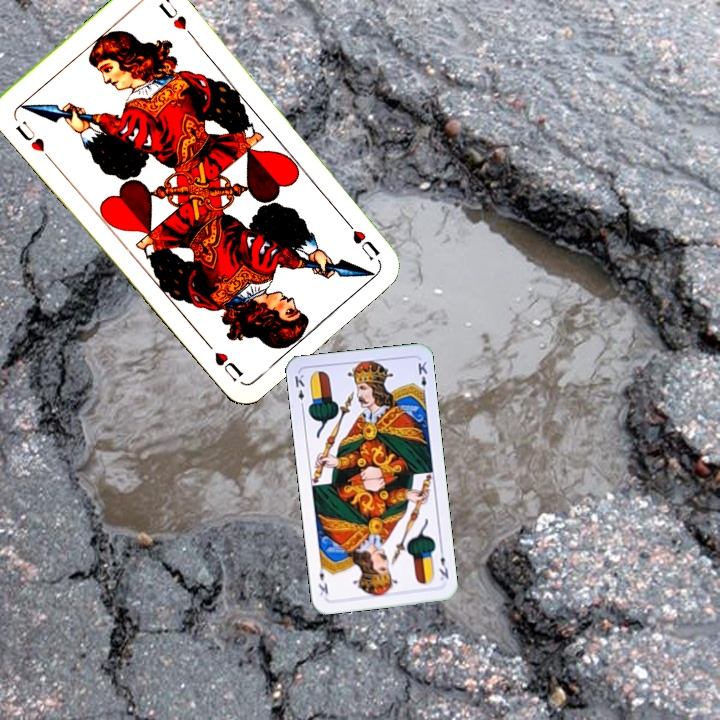EK: (290, 370, 307, 411), (435, 545, 451, 583)
HU: (339, 214, 383, 263), (11, 116, 48, 155)
